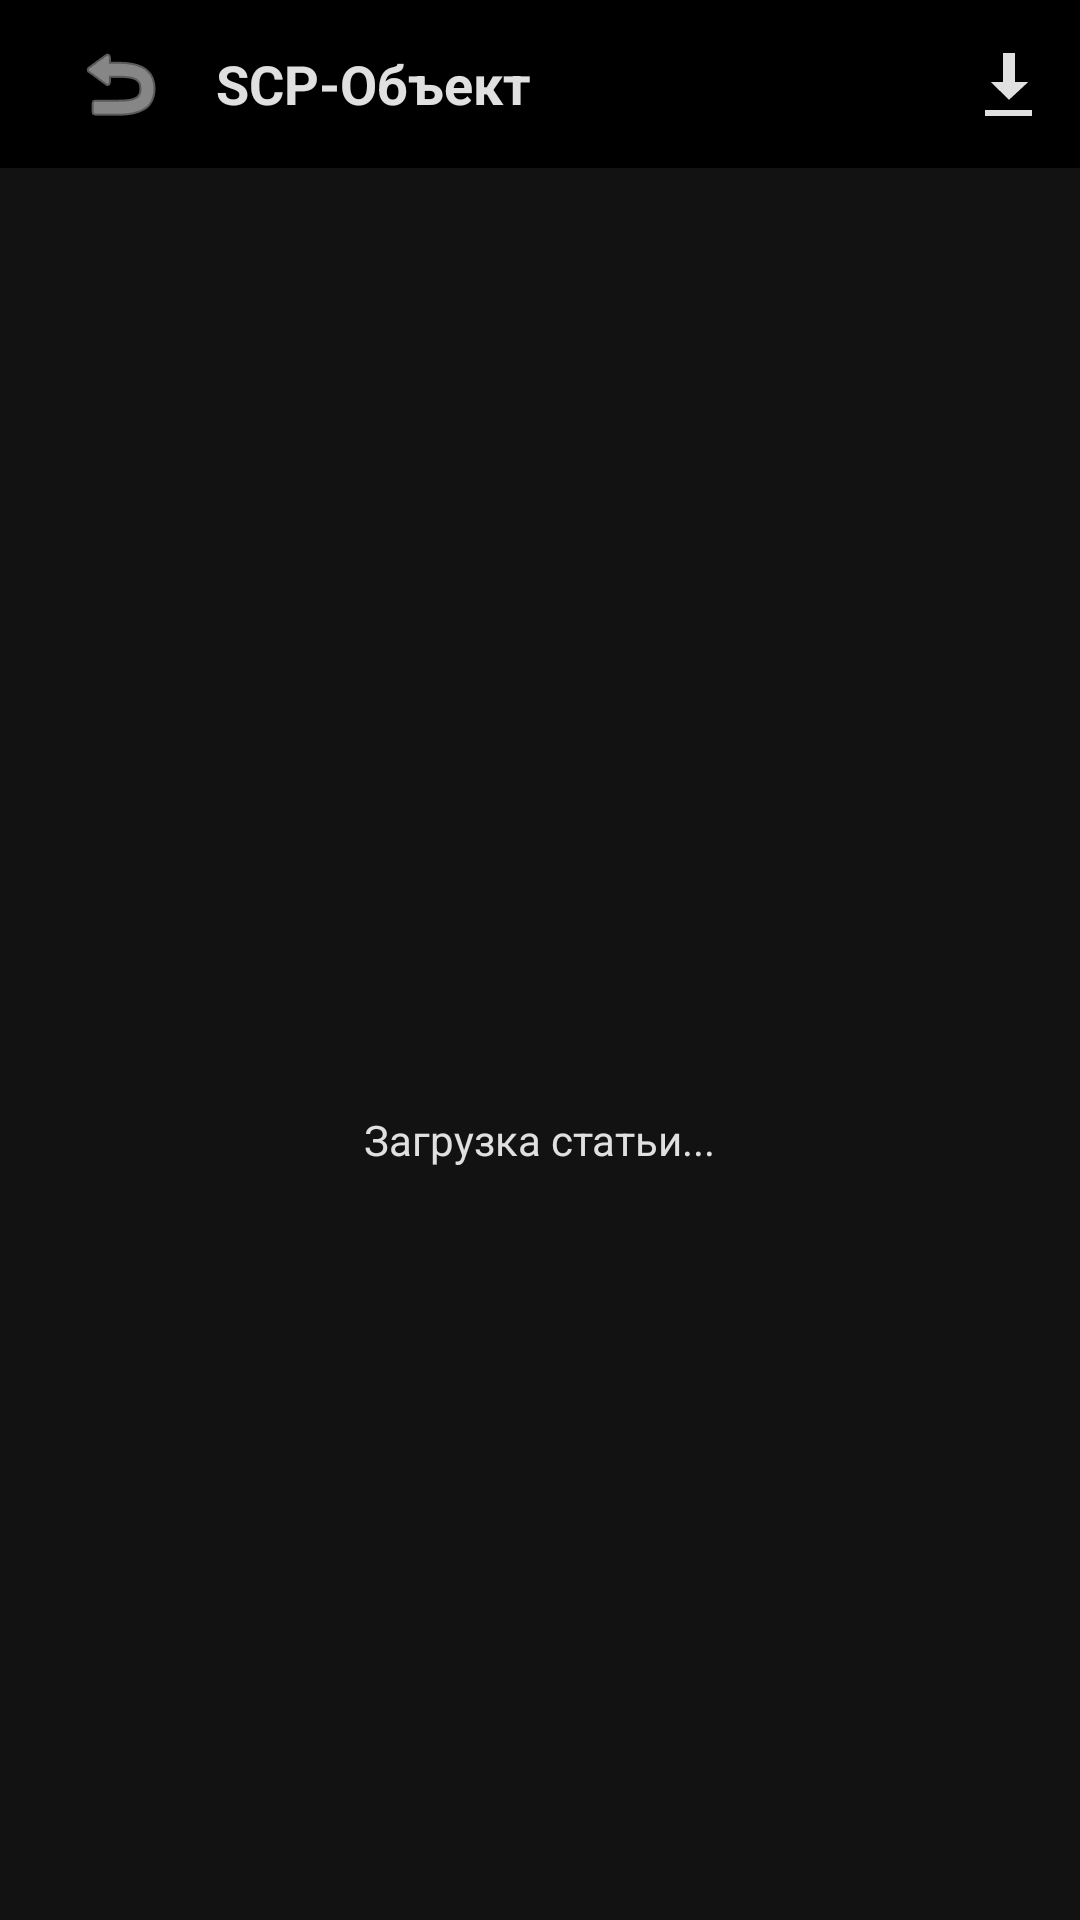

Icon bounding boxes for this 1080px x 1920px phone screenshot, format (x1=x1, y1=y1, x2=x2, y2=y2):
Вернуться назад: (x1=87, y1=53, x2=156, y2=116)
Скачать статью для офлайн чтения: (x1=985, y1=53, x2=1032, y2=116)
